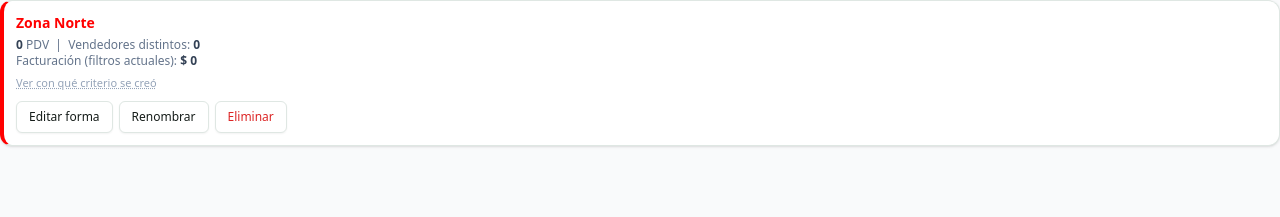
Test: ZoneItem › el botón de criterios alterna el texto y muestra/oculta el detalle
The image size is (1280, 217).
Expected: the text "Tipo PDV:" is not shown
Step 1. Click the button "Ver con qué criterio se creó" → x=86, y=83, box [16,75,157,92]
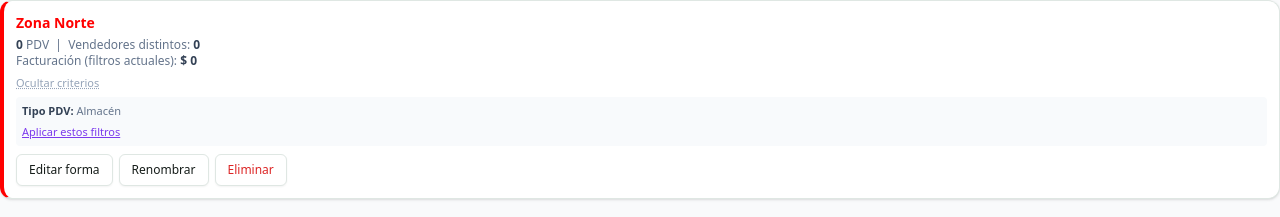
Expected: the button "Ocultar criterios" is shown, [16,75,99,92]
Expected: the text "Tipo PDV:" is shown, [22,103,76,118]
Expected: the text "Almacén" is shown, [76,103,121,118]
